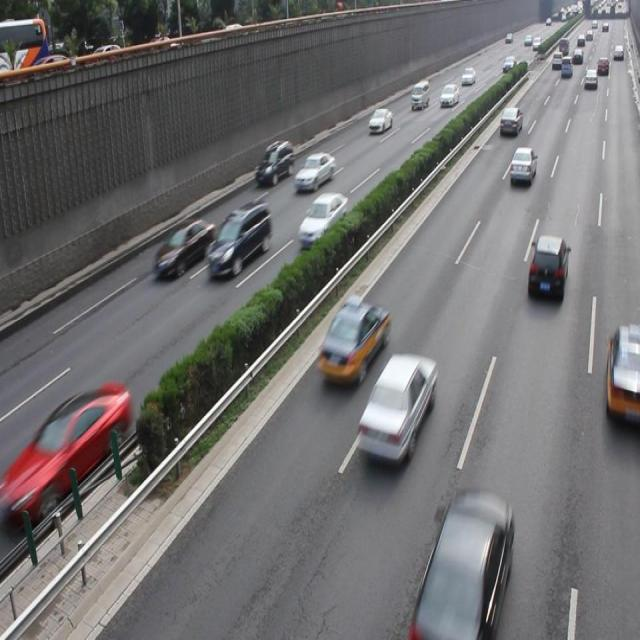car: (16, 384, 131, 523), (413, 487, 512, 640), (354, 353, 436, 464), (316, 297, 388, 383), (204, 200, 271, 276), (603, 324, 640, 429), (153, 217, 214, 278), (526, 234, 567, 304), (297, 190, 346, 243), (293, 150, 335, 191), (255, 139, 292, 185), (508, 147, 535, 187)
